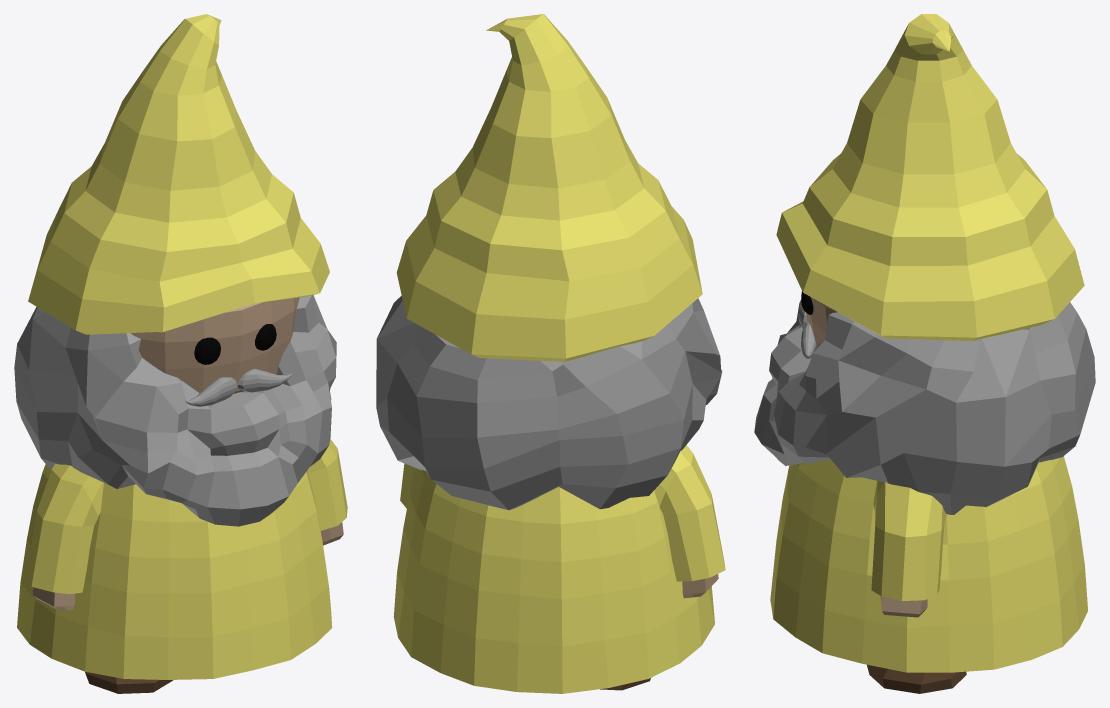
File: yellow_gnome.fbx
3 renders of one model, left to right at view 1: azimuth 30°, elevation 25°; view 2: azimuth 150°, elevation 25°; view 3: azimuth 270°, elevation 25°, orthographic.
Parts seen in each view (by area): view 1: gnome_combined; view 2: gnome_combined; view 3: gnome_combined.
Part boxes in pixels (x1,y1,x2,y2): gnome_combined: (14, 14, 347, 693); gnome_combined: (376, 14, 725, 693); gnome_combined: (754, 14, 1095, 693).
Size of the model in its own units: 10.86 by 20.81 by 10.08.
